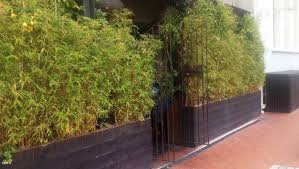bamboo: (5, 1, 120, 151), (1, 2, 149, 115), (170, 3, 267, 97)
